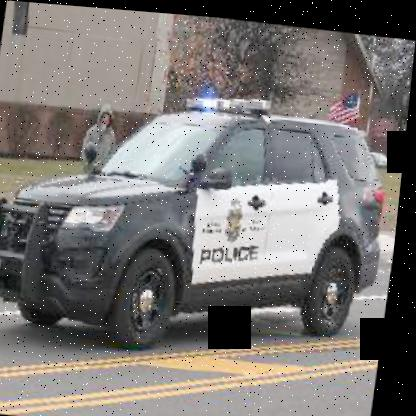emergency: (0, 62, 408, 377)
